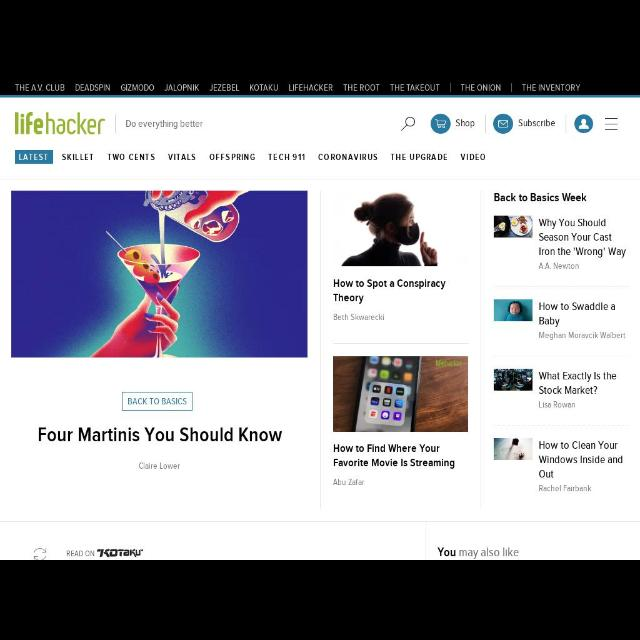icon: (493, 115, 512, 134), (432, 115, 451, 134), (576, 115, 592, 134), (605, 118, 617, 130), (402, 118, 414, 130), (33, 548, 45, 558)
image: (12, 191, 306, 357), (320, 192, 480, 266), (334, 356, 468, 432), (494, 216, 532, 238), (494, 299, 532, 321), (494, 368, 532, 390), (494, 438, 532, 459)
text: (38, 427, 282, 441), (15, 112, 104, 134), (334, 459, 454, 469), (334, 280, 446, 290), (540, 246, 626, 258), (438, 547, 518, 559), (334, 444, 440, 452), (538, 218, 606, 230), (539, 372, 617, 382), (494, 193, 586, 201), (540, 332, 626, 340), (539, 455, 623, 463), (66, 549, 144, 557), (540, 441, 618, 449), (126, 120, 204, 128), (539, 302, 615, 310), (540, 233, 612, 241), (539, 386, 597, 394), (522, 85, 580, 92), (540, 484, 590, 492), (318, 154, 378, 160), (390, 85, 440, 92), (128, 398, 186, 404), (391, 154, 447, 160), (539, 262, 579, 270), (333, 294, 363, 304), (334, 314, 384, 320), (290, 85, 332, 92), (15, 84, 64, 90), (539, 400, 575, 408), (461, 85, 502, 92), (108, 154, 154, 160), (210, 154, 256, 160), (138, 462, 180, 468), (344, 85, 380, 92), (332, 478, 363, 486), (539, 316, 559, 328), (76, 85, 110, 92), (268, 154, 306, 160), (519, 120, 555, 126), (164, 85, 200, 91), (62, 154, 94, 160), (208, 84, 240, 90), (122, 84, 154, 90), (18, 154, 48, 160), (168, 154, 196, 160), (250, 84, 278, 90), (461, 154, 485, 160), (456, 120, 474, 128), (540, 470, 554, 478)
textbutton: (122, 392, 192, 411), (15, 150, 52, 163)
toolbar: (1, 80, 640, 178)
